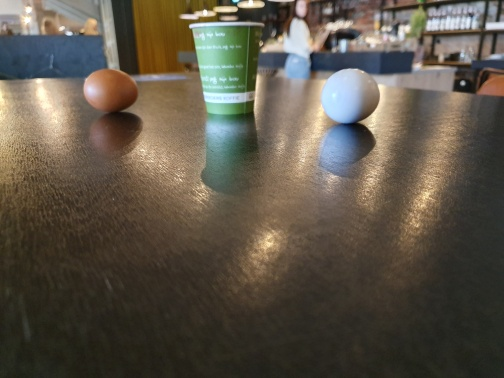egg: (320, 66, 381, 125), (82, 68, 139, 114)
